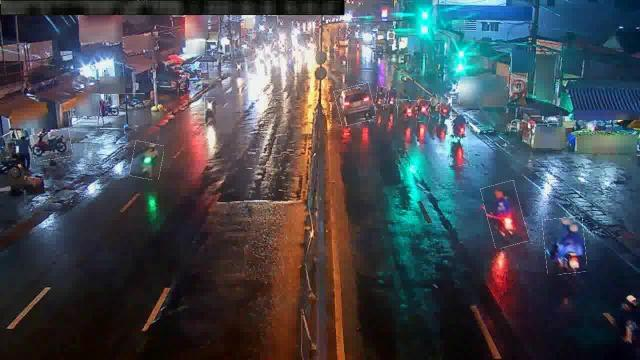Bike: (484, 182, 526, 248), (544, 218, 586, 274), (131, 142, 163, 180), (32, 131, 72, 161), (448, 133, 468, 165), (398, 100, 418, 126), (117, 93, 145, 110), (452, 113, 470, 139), (440, 98, 452, 124), (418, 100, 430, 122), (204, 98, 216, 120), (376, 86, 386, 109), (388, 89, 398, 105)
Car: (336, 85, 374, 125)
